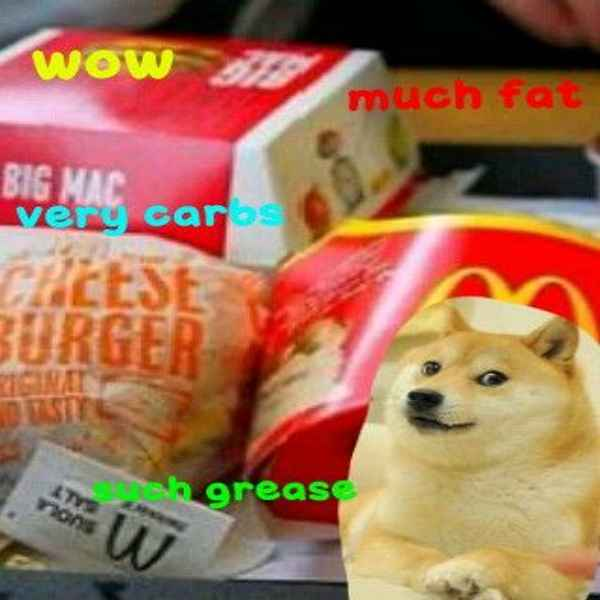doge: (382, 311, 593, 471)
